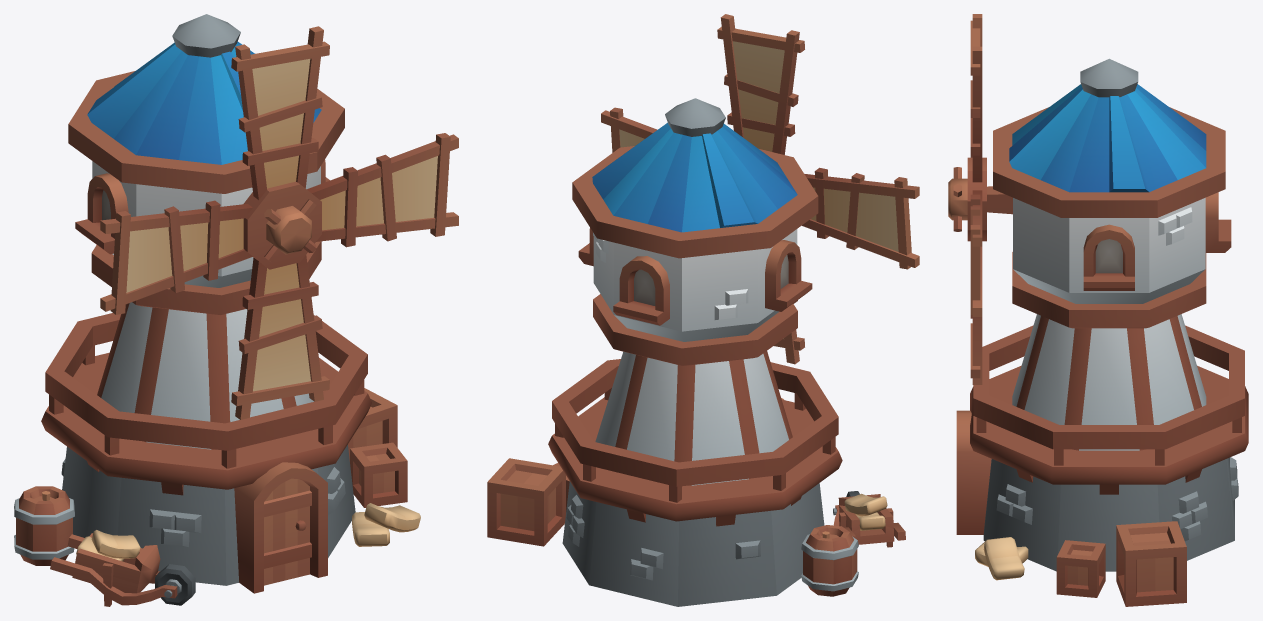
The model's file is windmill.glb.
The picture shows the model from 3 angles, left to right: view 1: azimuth 30°, elevation 25°; view 2: azimuth 150°, elevation 25°; view 3: azimuth 270°, elevation 25°; orthographic projection. The views are drawn at different scales.
Parts seen in each view (by area): view 1: building_windmill_blue, building_windmill_top_fan_blue, building_windmill_top_blue; view 2: building_windmill_blue, building_windmill_top_blue, building_windmill_top_fan_blue; view 3: building_windmill_blue, building_windmill_top_blue, building_windmill_top_fan_blue.
Boxes of the visible parts, x1,y1,x2,y2 form: building_windmill_blue: (14, 302, 420, 606); building_windmill_top_fan_blue: (100, 26, 458, 419); building_windmill_top_blue: (68, 14, 344, 314); building_windmill_blue: (487, 351, 905, 606); building_windmill_top_blue: (572, 98, 818, 365); building_windmill_top_fan_blue: (601, 14, 919, 364); building_windmill_blue: (956, 314, 1248, 606); building_windmill_top_blue: (987, 58, 1231, 328); building_windmill_top_fan_blue: (948, 14, 986, 384).
Size of the model in its own units: 1.13 by 1.46 by 0.8165.
Materials: 3 (3 with a texture image).
